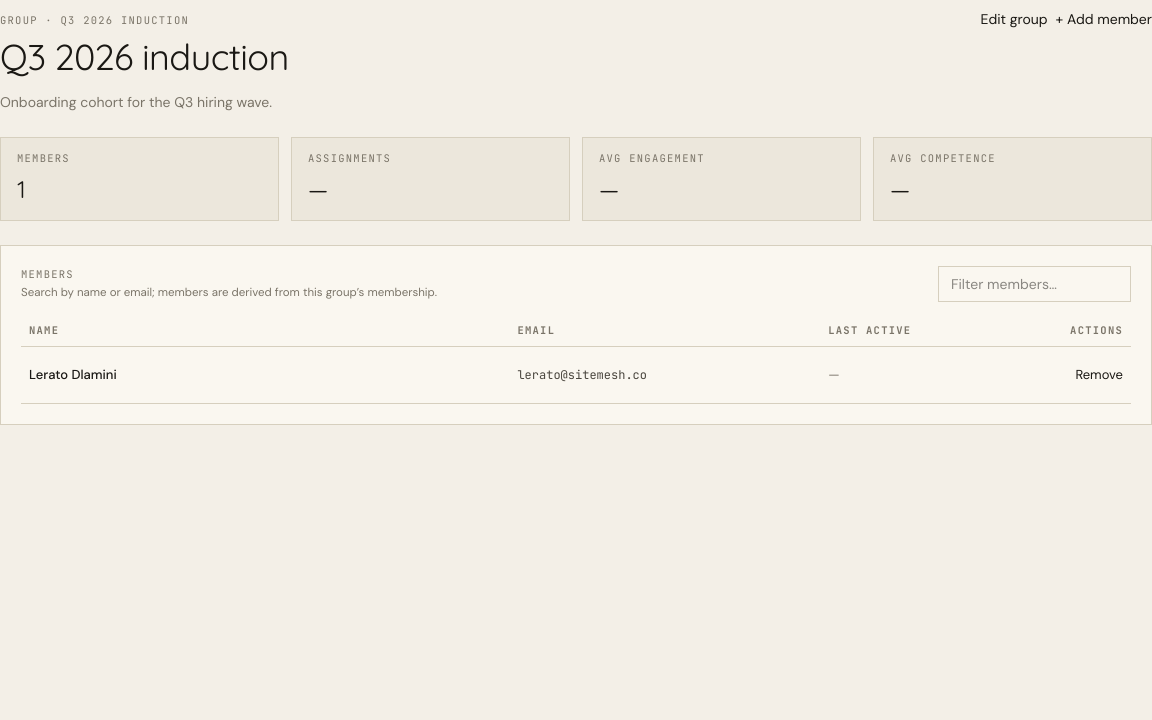
group detail — add member flow (drift Finding #2 fan-out) › filters out already-existing members from the picker
The width and height of the screenshot is (1152, 720).
Click the button with test id "group-add-member-button".
click(1104, 20)  # box [1056, 0, 1151, 40]
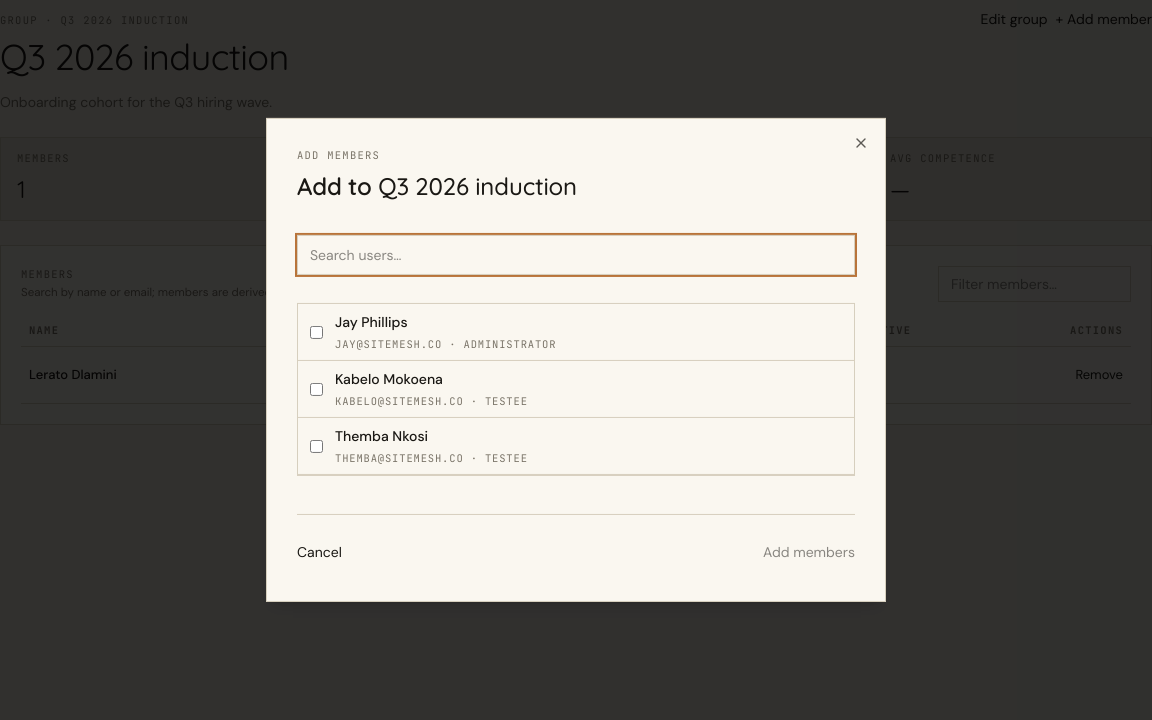
Expected: the element with test id "picker-list" is shown, [297, 303, 855, 476]
